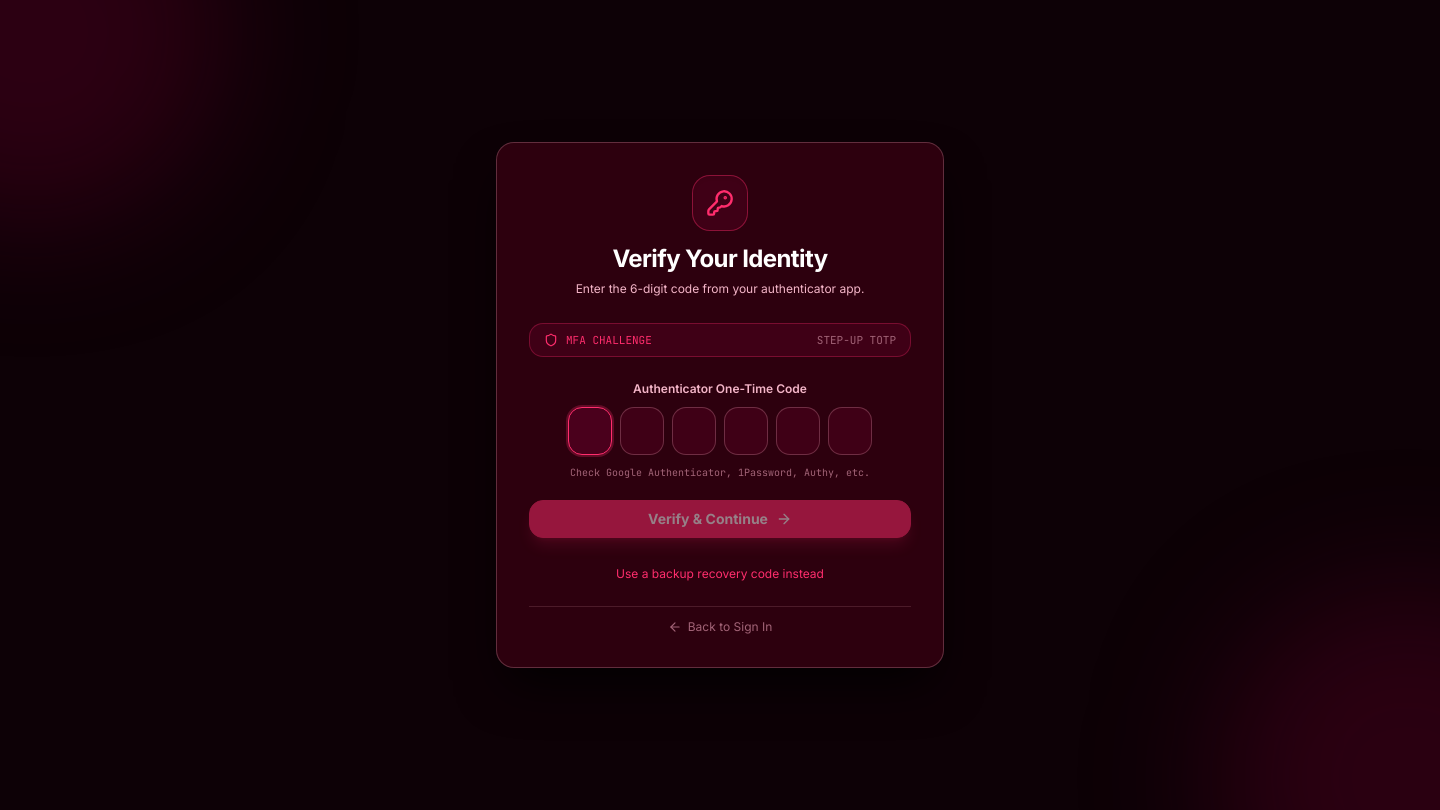
MfaChallengeScreen Component › displays rate limit exceeded message on HTTP 429
In the 1st field: [590, 431] box x1=568 y1=407 x2=612 y2=455, type "111111"
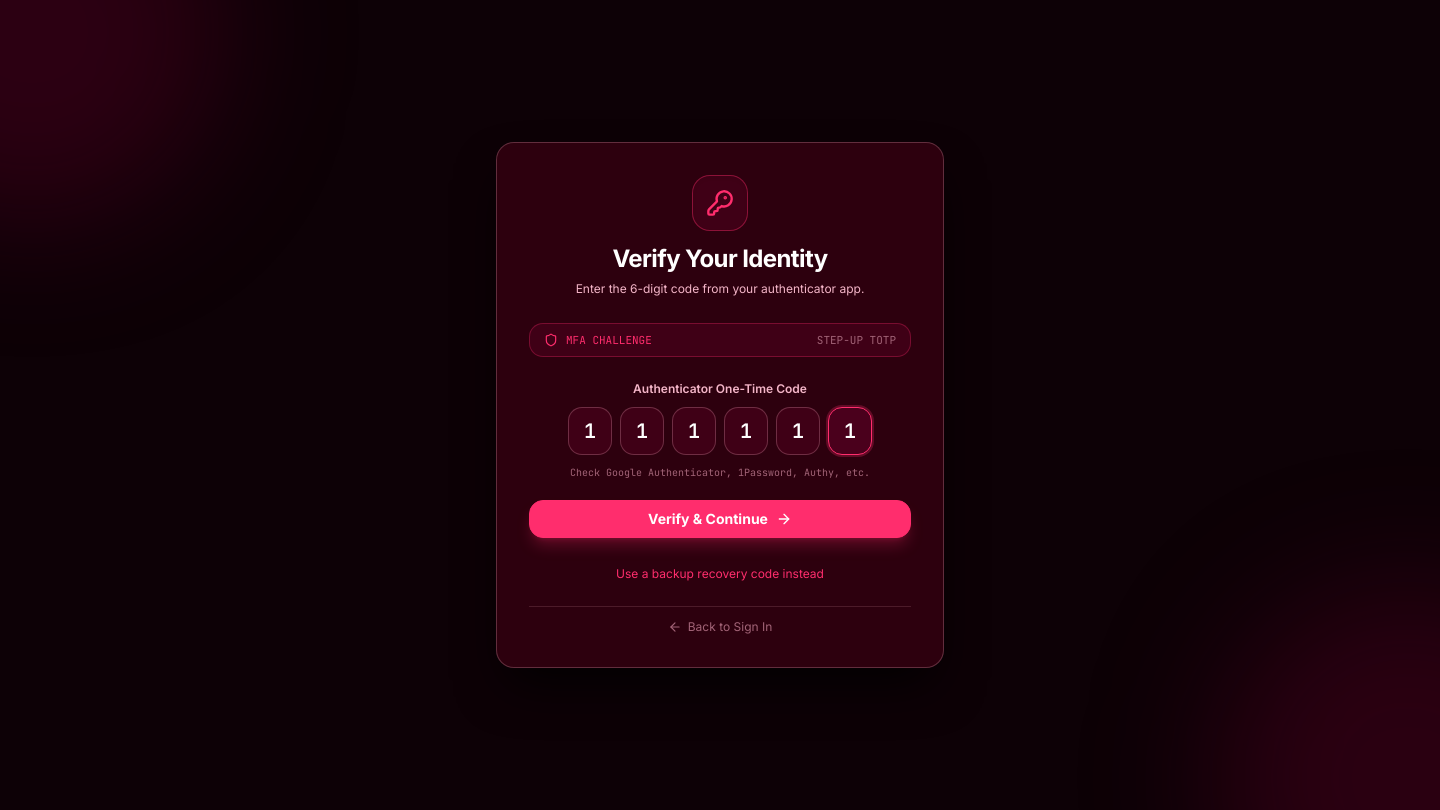
Click the button "Verify & Continue": [720, 519] box x1=529 y1=500 x2=911 y2=538
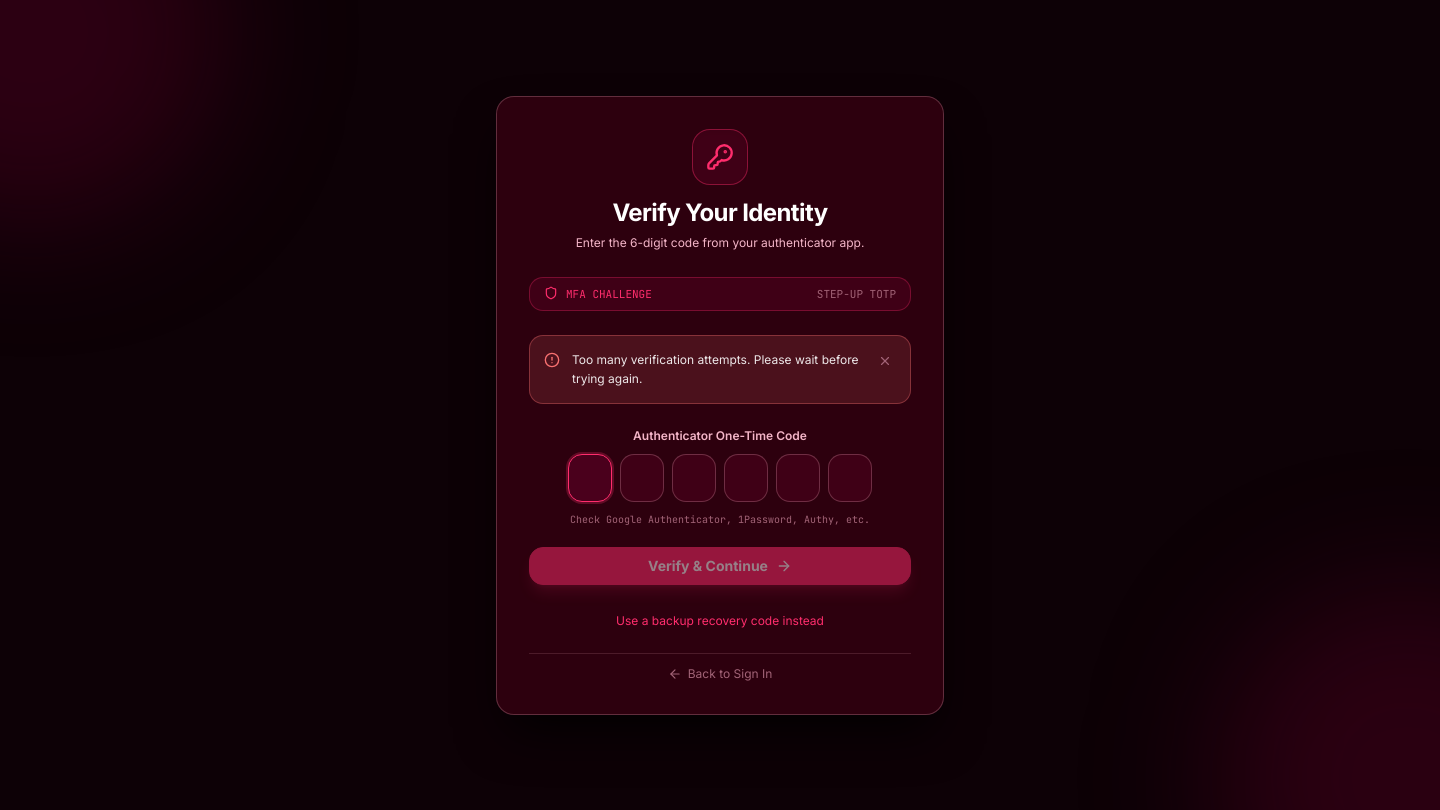
Check: the text "Too many verification attempts. Please wait before trying again." is shown, box x1=572 y1=350 x2=862 y2=388
